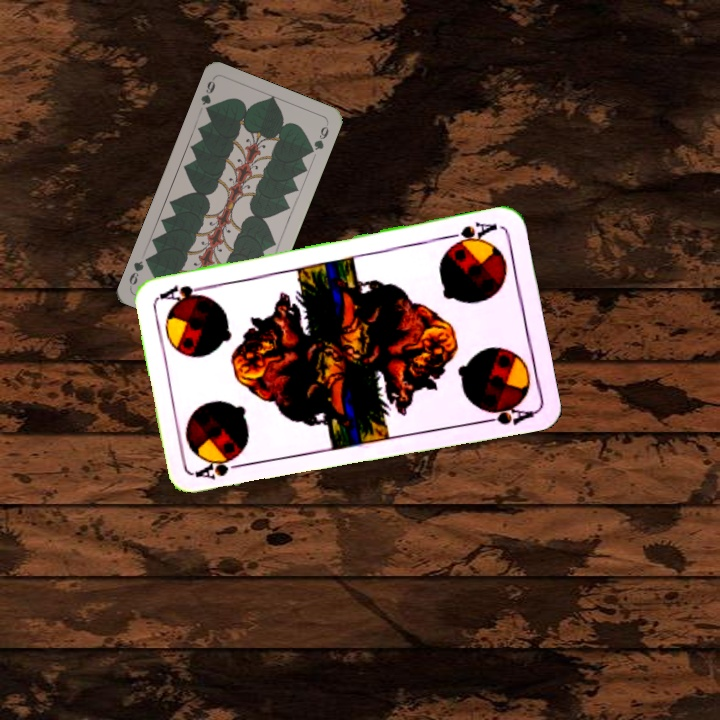G9: (197, 75, 218, 117)
SA: (441, 217, 500, 250), (191, 453, 250, 482)
